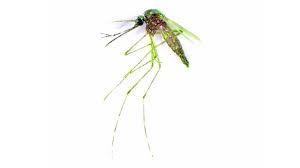Insects: (96, 4, 203, 159)
